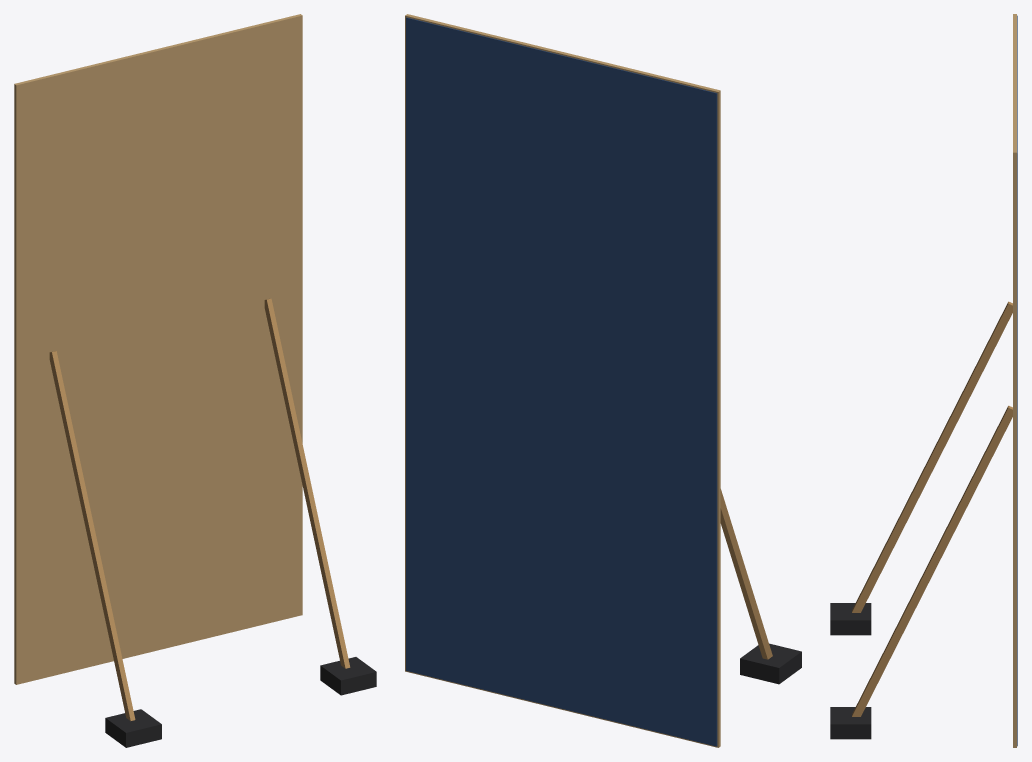
File: venue.stage.backdrop_flat.glb
3 renders of one model, left to right at view 1: azimuth 30°, elevation 25°; view 2: azimuth 150°, elevation 25°; view 3: azimuth 270°, elevation 25°, orthographic. The views are drawn at different scales.
Parts seen in each view (by area): view 1: main__plywood, main__softwood, main__cast_iron; view 2: main__fabric_blue, main__plywood, main__softwood, main__cast_iron; view 3: main__softwood, main__plywood, main__cast_iron, main__fabric_blue.
Part boxes in pixels (x1,y1,x2,y2): main__plywood: (14,14,302,684); main__softwood: (49,298,350,720); main__cast_iron: (105,657,376,747); main__fabric_blue: (406,17,717,746); main__plywood: (405,14,720,747); main__softwood: (720,489,772,659); main__cast_iron: (740,643,801,684); main__softwood: (852,301,1012,716); main__plywood: (1013,14,1016,747); main__cast_iron: (830,603,871,739); main__fabric_blue: (1017,15,1017,746).
Bounding box in the file's own units: 2.4 × 4.8 × 1.37.
